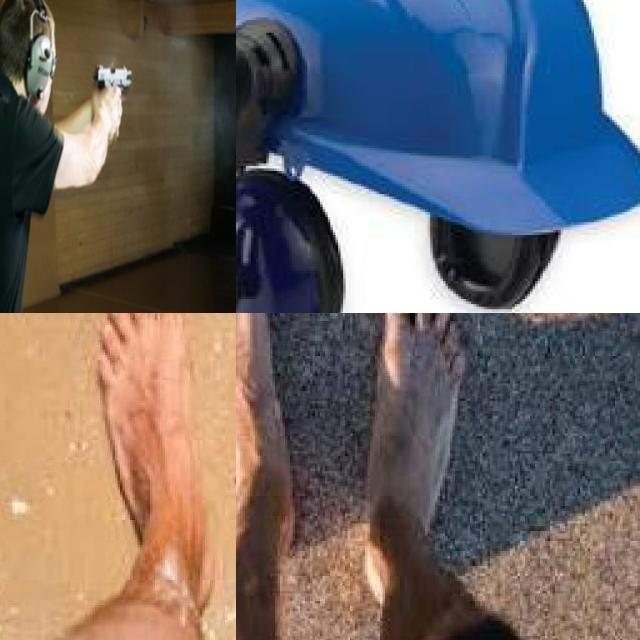Barefoots: (72, 313, 231, 606), (340, 313, 490, 605), (236, 313, 307, 569)
Ear-protection: (236, 168, 345, 313), (414, 212, 558, 313), (0, 0, 63, 125)
head_helmet: (236, 0, 640, 237)
person: (0, 0, 85, 313)
